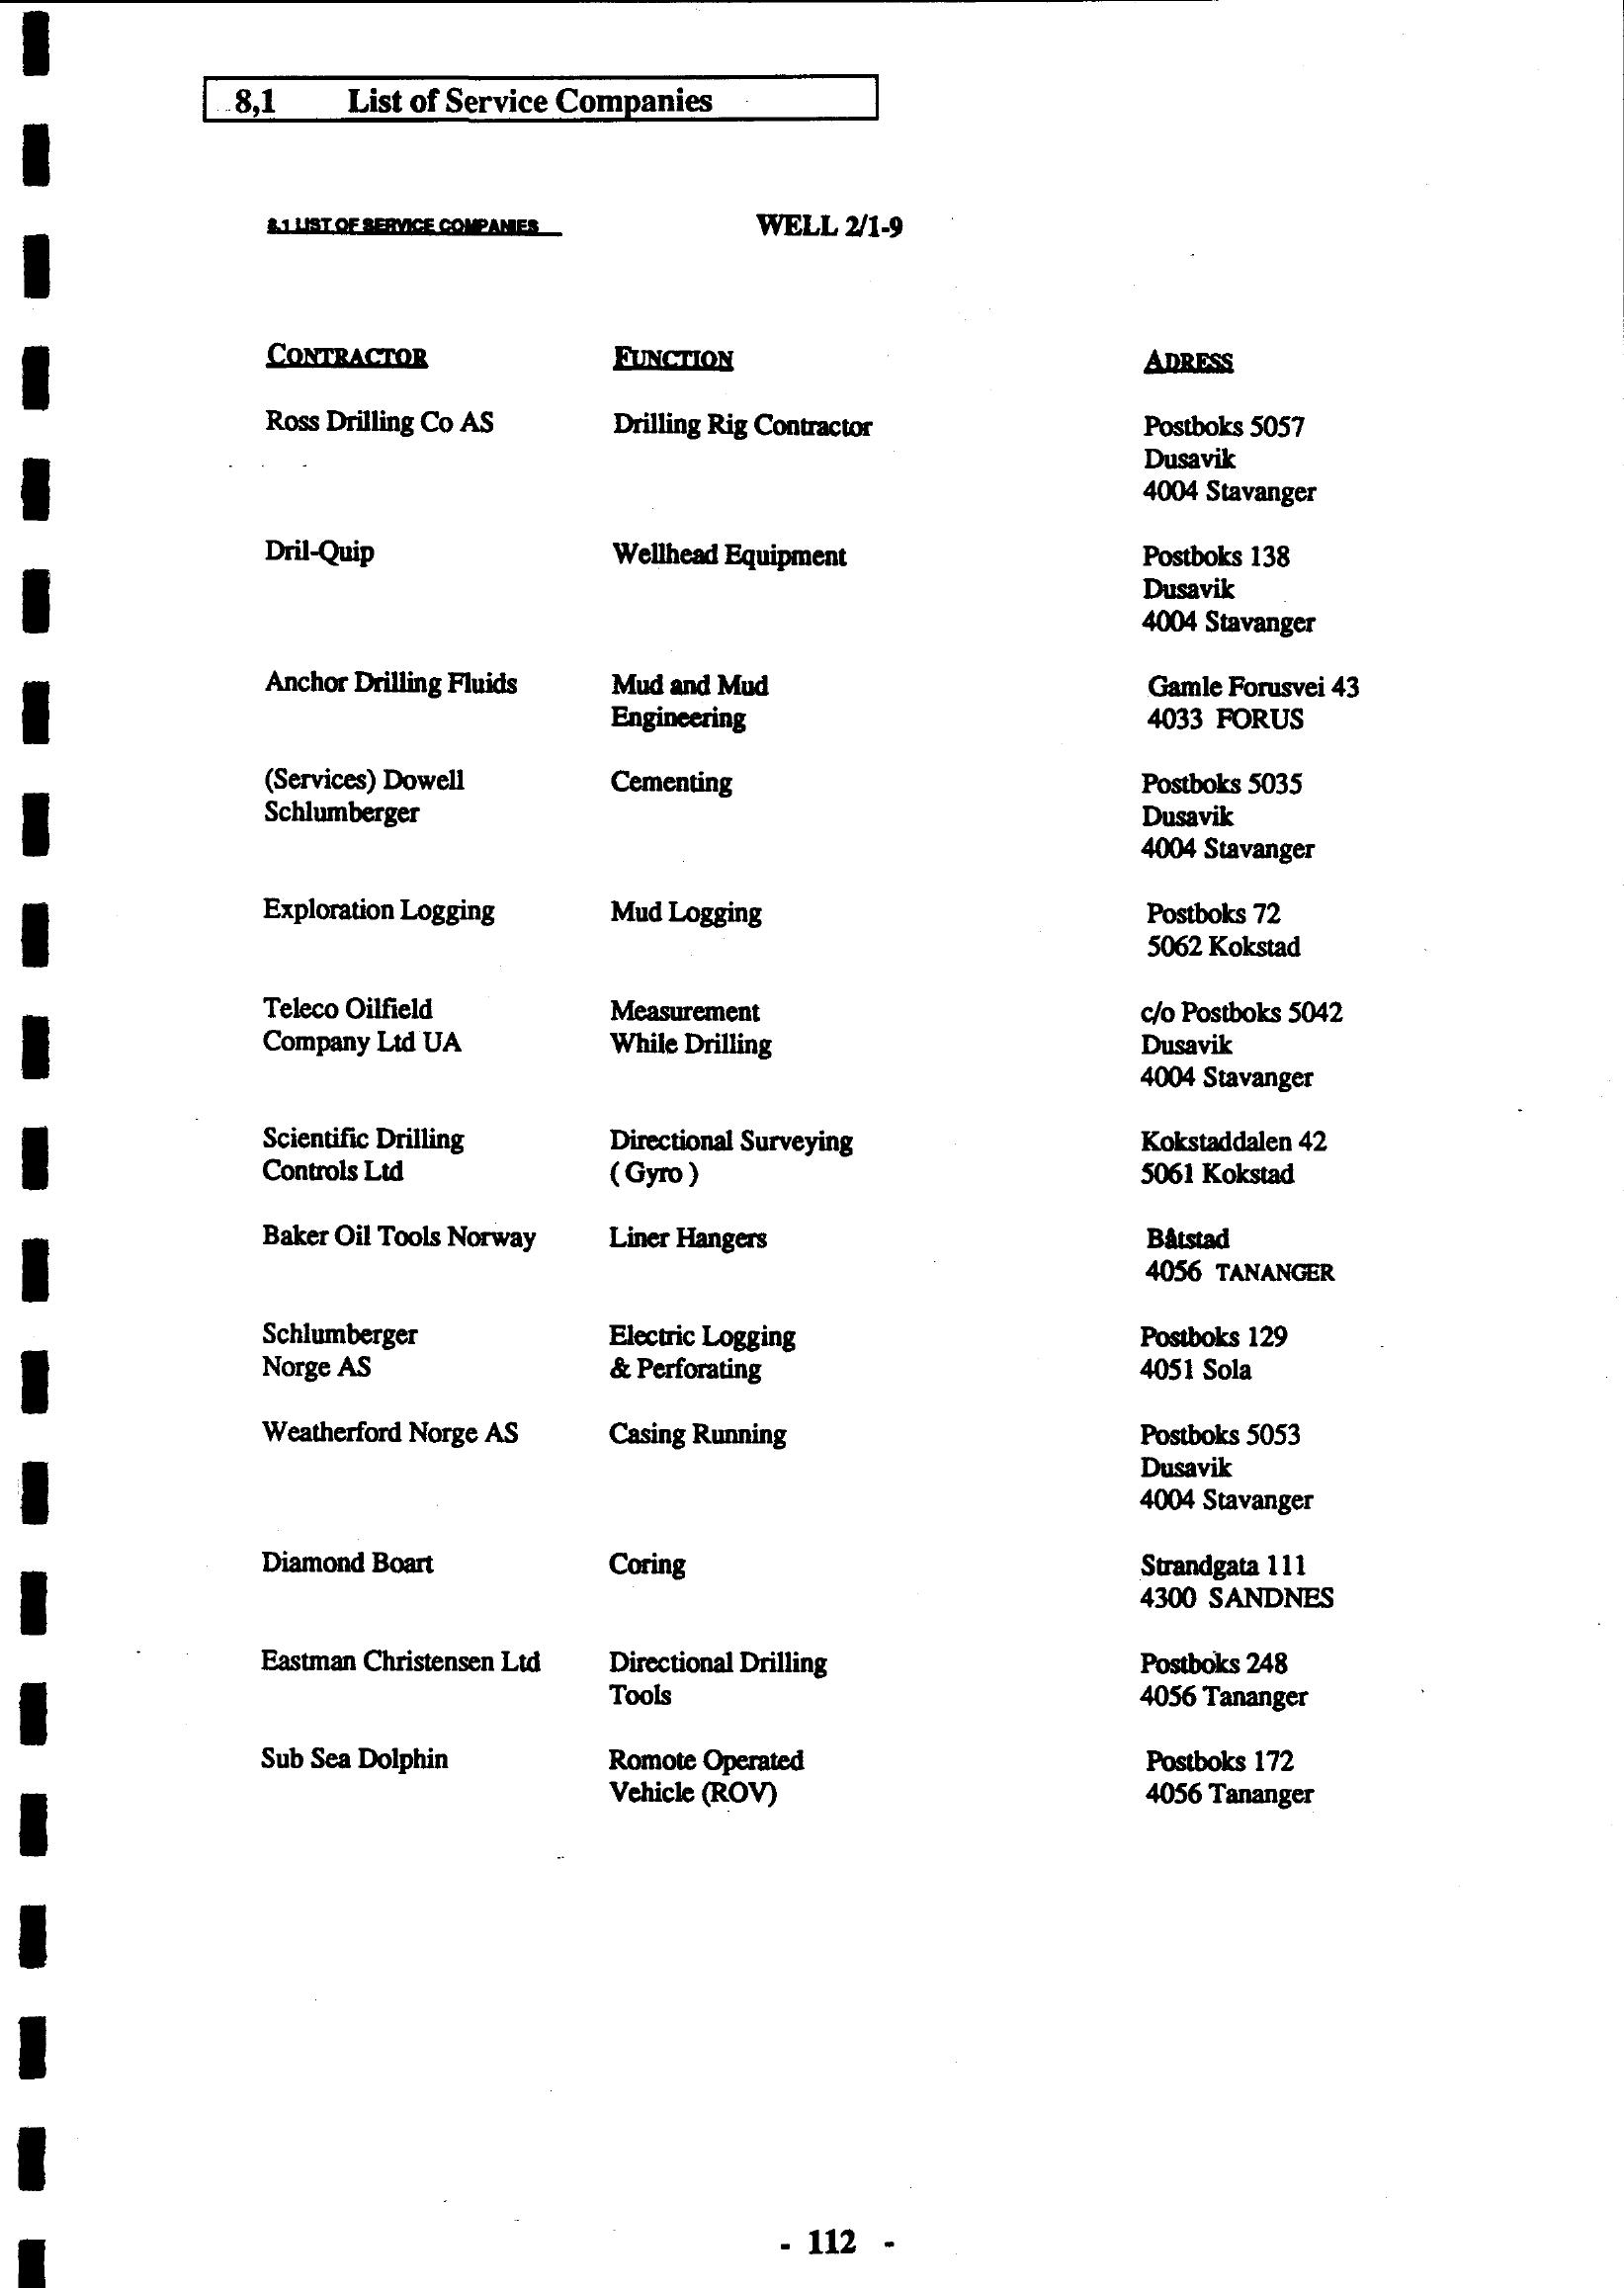table: (207, 195, 1496, 2002)
text: (155, 54, 970, 165)
